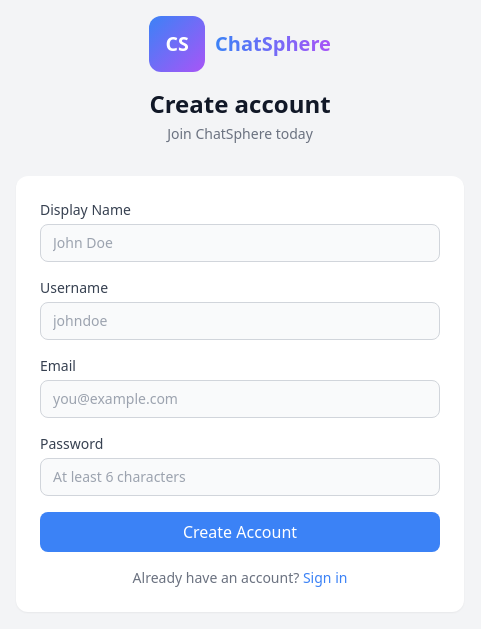
Test: Register Page › should show loading state while submitting
Step 1. Type "Test" into the field with placeholder "John Doe" → (240, 243), box [40,224,440,262]
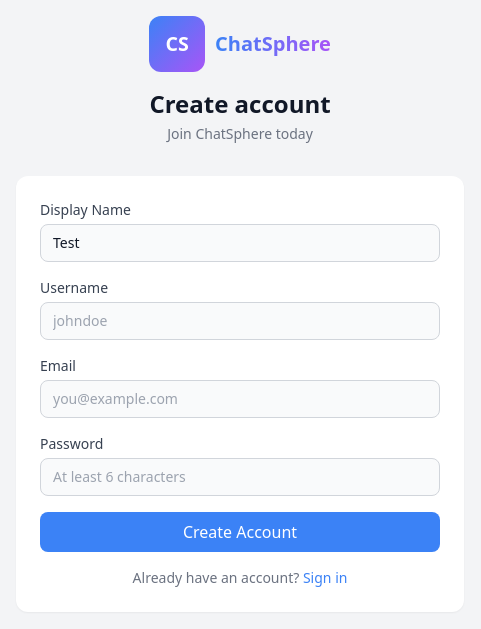
Step 2. Type "testuser" into the field with placeholder "johndoe" → (240, 321), box [40,302,440,340]
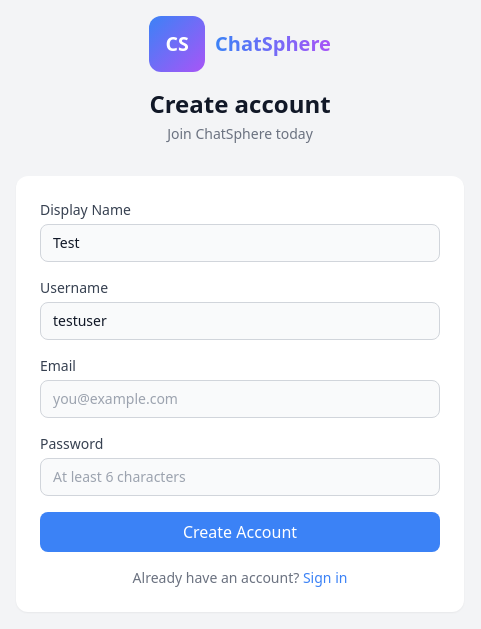
Step 3. Type "test@test.com" into the field with placeholder "you@example.com" → (240, 399), box [40,380,440,418]
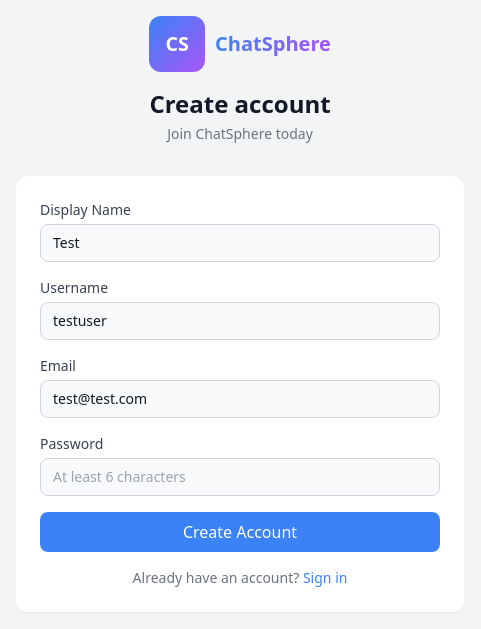
Step 4. Type "password123" into the password field with placeholder "At least 6 characters" → (240, 477), box [40,458,440,496]
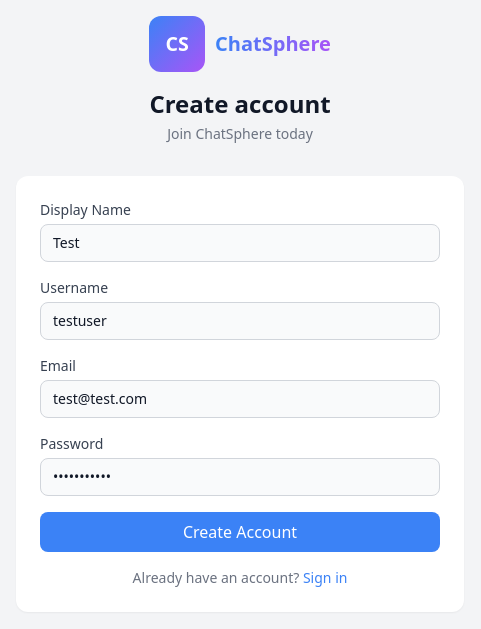
Step 5. Click the button "Create Account" → (240, 532), box [40,512,440,552]
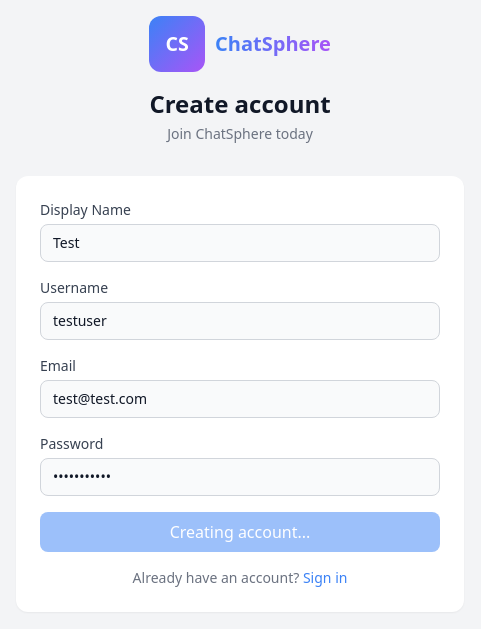
Expected: the button "Creating account..." is shown, [40,512,440,552]
